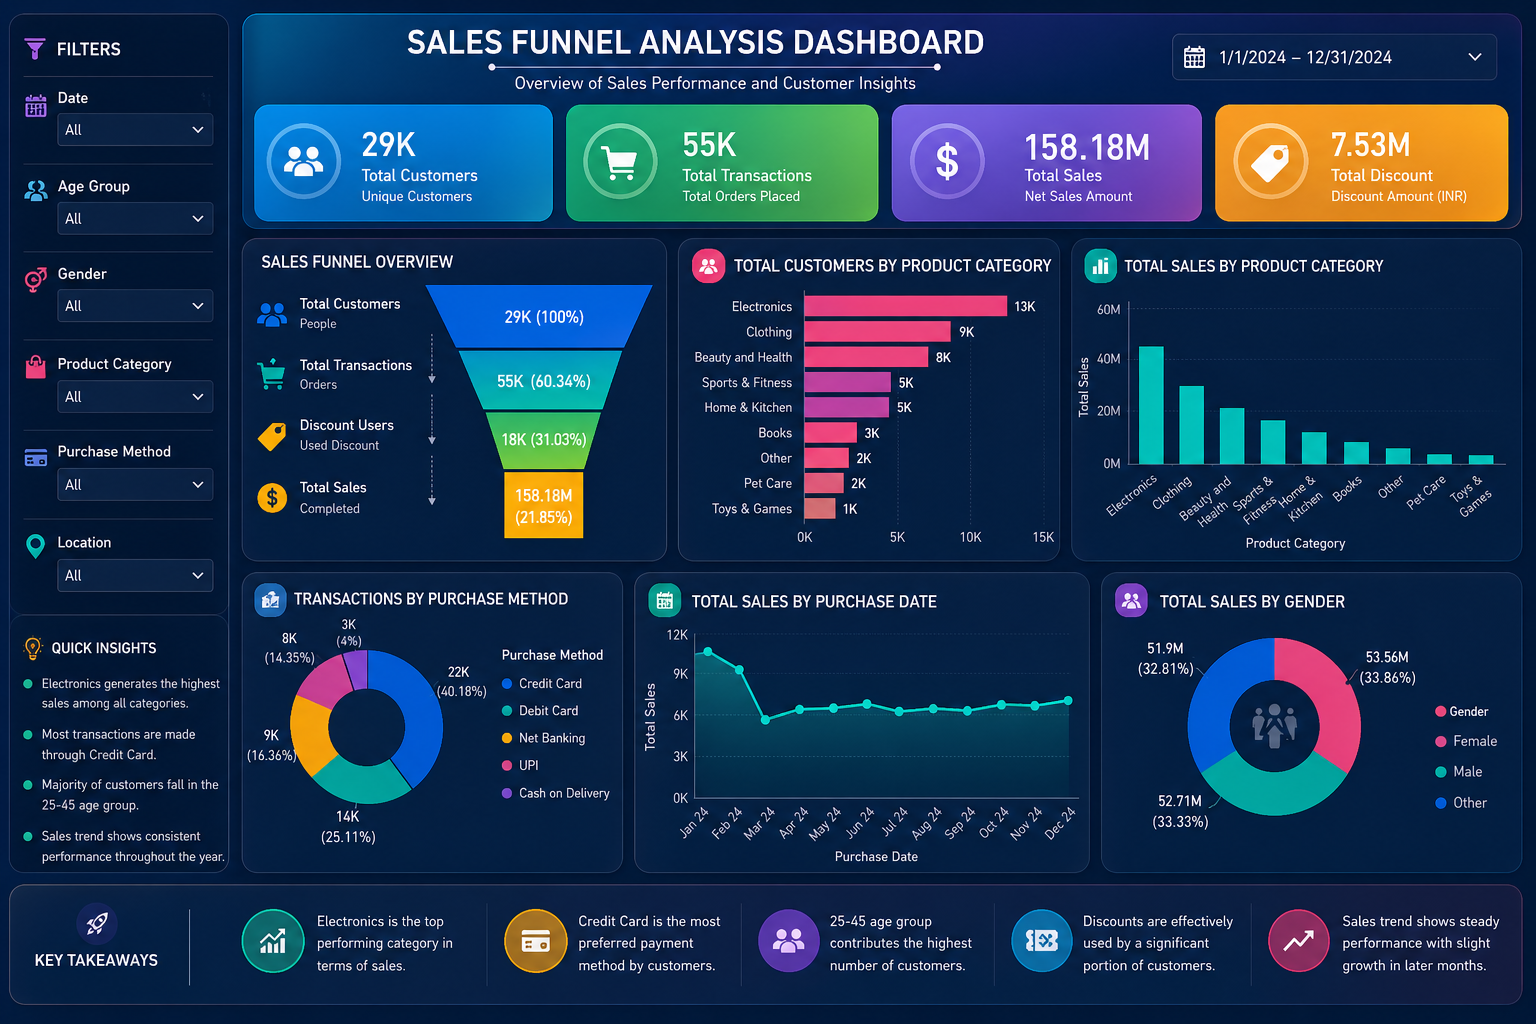

The dashboard page shown, as its layout file describes it:
{"tool":"powerbi","page":{"name":"Page 1","canvas":[1280,720],"ordinal":0},"visuals":[{"type":"card","fields":{"Values":["project1_df (6).Total Customers"]},"box":[204.6,0,195.4,146.2],"z":1},{"type":"card","fields":{"Values":["project1_df (6).Total Discount"]},"box":[4.6,0,195.4,147.7],"z":2},{"type":"card","fields":{"Values":["project1_df (6).Total Sales"]},"box":[884.6,0,195.4,146.2],"z":3},{"type":"card","fields":{"Values":["project1_df (6).Total Transactions"]},"box":[1083.1,0,195.4,146.2],"z":4},{"type":"funnel","fields":{"Category":["project1_df (6).Product Category"],"Y":["project1_df (6).Total Customers"]},"box":[227.7,147.7,549.2,336.9],"z":5},{"type":"clusteredColumnChart","fields":{"Category":["project1_df (6).Product Category"],"Y":["project1_df (6).Total Sales"]},"box":[790.8,146.2,487.7,335.4],"z":7},{"type":"pieChart","fields":{"Category":["project1_df (6).Gender"],"Y":["project1_df (6).Total Sales"]},"box":[743.1,489.2,336.9,230.8],"z":8},{"type":"donutChart","fields":{"Category":["project1_df (6).Purchase Method"],"Y":["project1_df (6).Total Transactions"]},"box":[295.4,489.2,272.3,224.6],"z":9},{"type":"slicer","fields":{"Values":["project1_df (6).Product Category"]},"box":[0,158.5,203.1,290.8],"z":11},{"type":"slicer","fields":{"Values":["project1_df (6).Age Group"]},"box":[0,463.1,204.6,256.9],"z":12},{"type":"textbox","title":"Sales Funnel Analysis Dashboard","box":[432.3,30.8,429.2,103.1],"z":13}]}

Visuals, with their boxes on the page's 1280x720 design canvas (x1, y1, x2, y2). These are canvas units, not pixel positions in the 1536x1024 screenshot, which may show the page scaled, cropped or inside an application window:
card - project1_df (6).Total Customers: <region>205, 0, 400, 146</region>
card - project1_df (6).Total Discount: <region>5, 0, 200, 148</region>
card - project1_df (6).Total Sales: <region>885, 0, 1080, 146</region>
card - project1_df (6).Total Transactions: <region>1083, 0, 1278, 146</region>
funnel - project1_df (6).Product Category x project1_df (6).Total Customers: <region>228, 148, 777, 485</region>
clusteredColumnChart - project1_df (6).Product Category x project1_df (6).Total Sales: <region>791, 146, 1278, 482</region>
pieChart - project1_df (6).Gender x project1_df (6).Total Sales: <region>743, 489, 1080, 720</region>
donutChart - project1_df (6).Purchase Method x project1_df (6).Total Transactions: <region>295, 489, 568, 714</region>
slicer - project1_df (6).Product Category: <region>0, 158, 203, 449</region>
slicer - project1_df (6).Age Group: <region>0, 463, 205, 720</region>
"Sales Funnel Analysis Dashboard" textbox: <region>432, 31, 862, 134</region>
